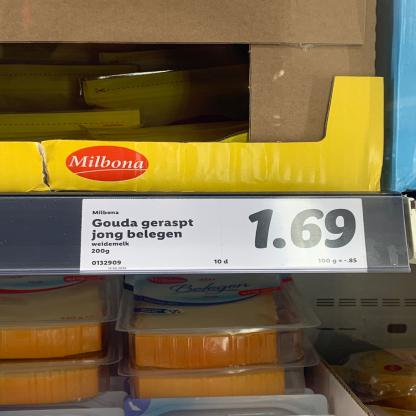prtg: (80, 199, 369, 274)
